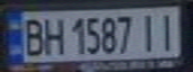1: (66, 15, 84, 55)
5: (81, 13, 103, 55)
7: (115, 12, 139, 54)
8: (100, 13, 118, 55)
B: (18, 15, 48, 57)
H: (39, 15, 66, 56)
I: (154, 9, 181, 52), (136, 10, 163, 53)
